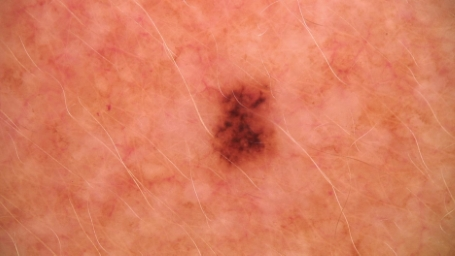seborrheic keratosis: (185, 72, 299, 182)
